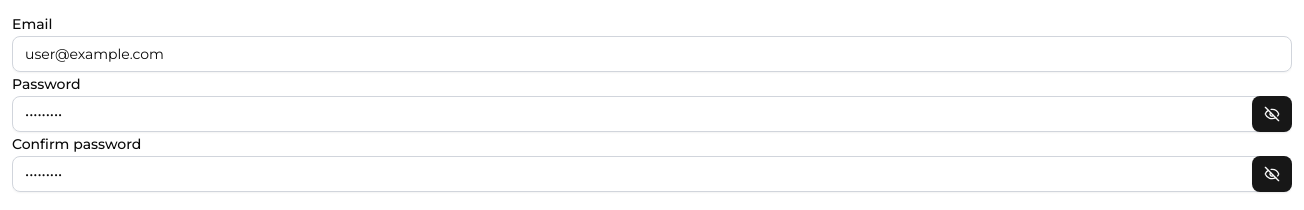
Test: AccountStep › should toggle password fields visibility
The width and height of the screenshot is (1304, 210).
Click the button named "password visibility switch". click: (1272, 114)
box: [1252,96,1292,132]
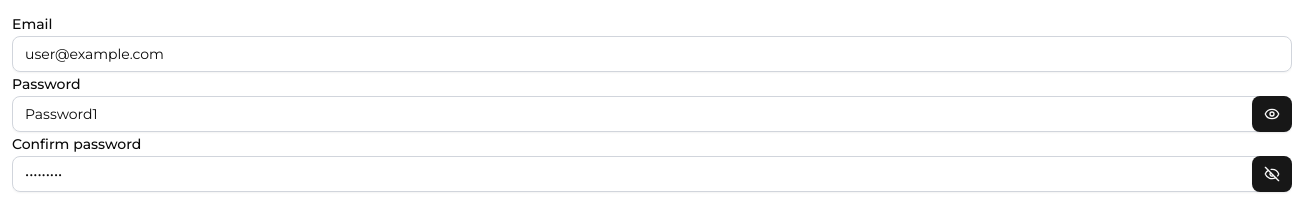
expect the field labelled "Password" shows its text: met, box [12,96,1292,132]
Click the button named "confirm password visibility switch". click: (1272, 174)
box: [1252,156,1292,192]
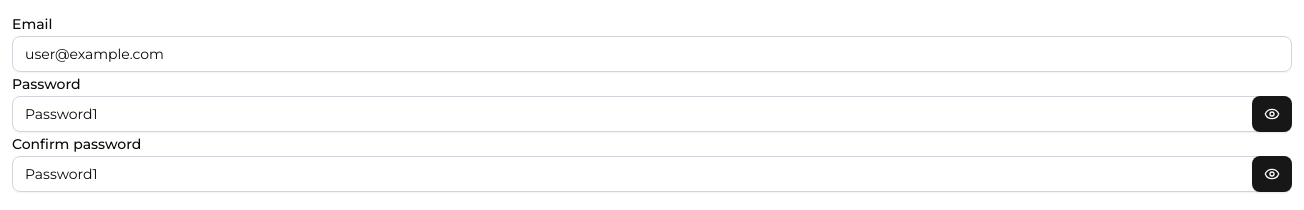
expect the field labelled "Confirm password" shows its text: met, box [12,156,1292,192]
